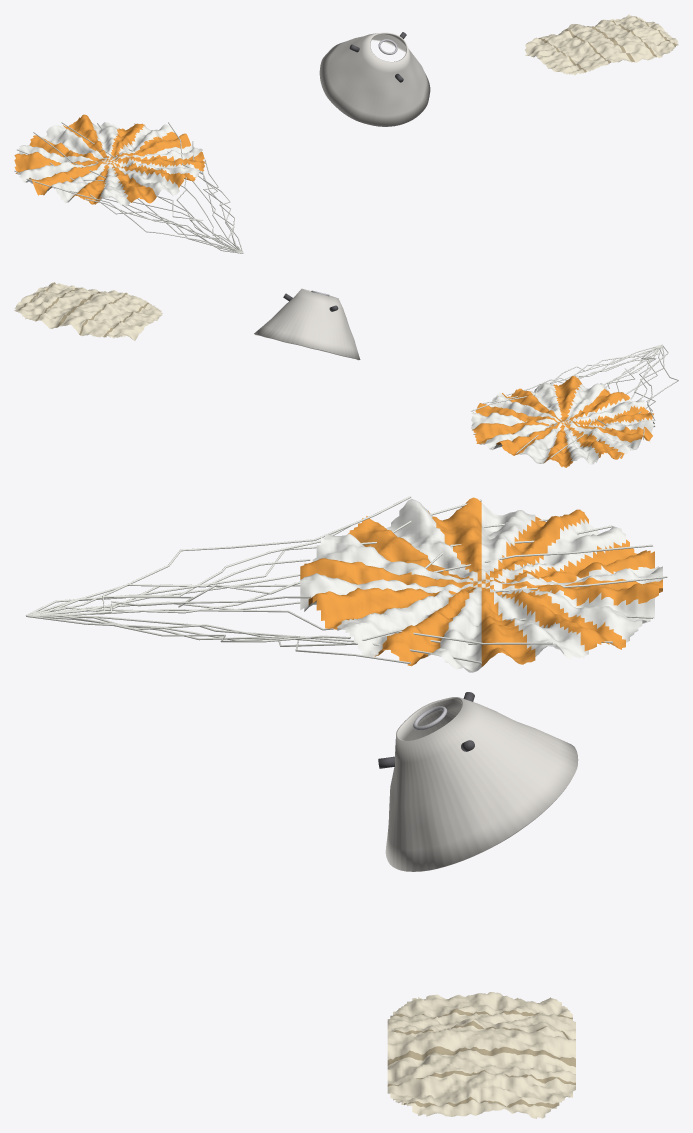
The model's file is debrisassets.fbx.
The picture shows the model from 3 angles, top to bottom: view 1: azimuth 30°, elevation 25°; view 2: azimuth 150°, elevation 25°; view 3: azimuth 270°, elevation 25°; orthographic projection. The views are drawn at different scales.
Parts seen in each view (by area): view 1: Parachute_Canopy, Backshell_Shell, Airbag_Sheet, Parachute_Lines; view 2: Parachute_Canopy, Airbag_Sheet, Backshell_Shell, Parachute_Lines; view 3: Parachute_Canopy, Backshell_Shell, Airbag_Sheet, Parachute_Lines.
Part boxes in pixels (bbox=[...]): Parachute_Canopy: bbox=[14, 114, 205, 206]; Backshell_Shell: bbox=[319, 32, 430, 126]; Airbag_Sheet: bbox=[525, 14, 678, 75]; Parachute_Lines: bbox=[14, 122, 243, 253]; Parachute_Canopy: bbox=[471, 376, 655, 467]; Airbag_Sheet: bbox=[14, 282, 162, 340]; Backshell_Shell: bbox=[254, 288, 360, 360]; Parachute_Lines: bbox=[470, 344, 678, 459]; Parachute_Canopy: bbox=[300, 497, 662, 672]; Backshell_Shell: bbox=[385, 697, 578, 871]; Airbag_Sheet: bbox=[387, 992, 575, 1118]; Parachute_Lines: bbox=[25, 496, 667, 664].
Size of what is drawn, in the model's own units: 1686 by 196 by 761.
